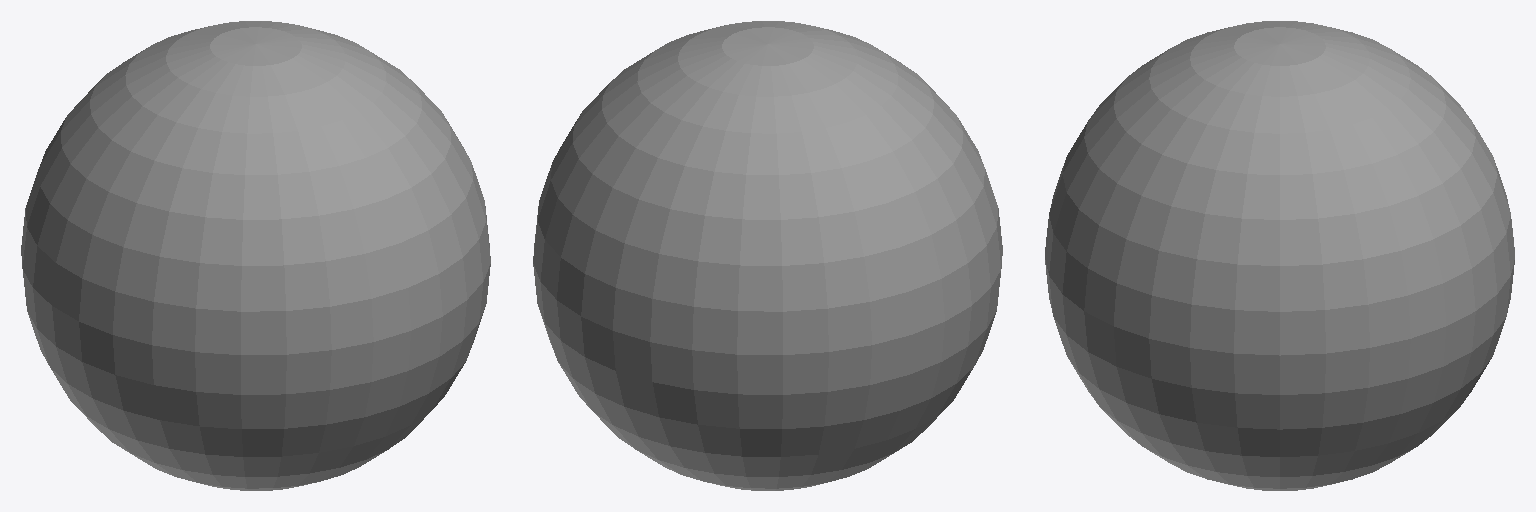
File: Earth.obj
3 views of the same model, side by side, from view 1: azimuth 30°, elevation 25°; view 2: azimuth 150°, elevation 25°; view 3: azimuth 270°, elevation 25° (orthographic).
Visible parts, largest first — view 1: Sphere; view 2: Sphere; view 3: Sphere.
Boxes of the visible parts, x1=… form: Sphere: x1=21, y1=21, x2=490, y2=490; Sphere: x1=533, y1=21, x2=1002, y2=490; Sphere: x1=1045, y1=21, x2=1514, y2=490.
Size of the model in its own units: 2 by 1.98 by 2.